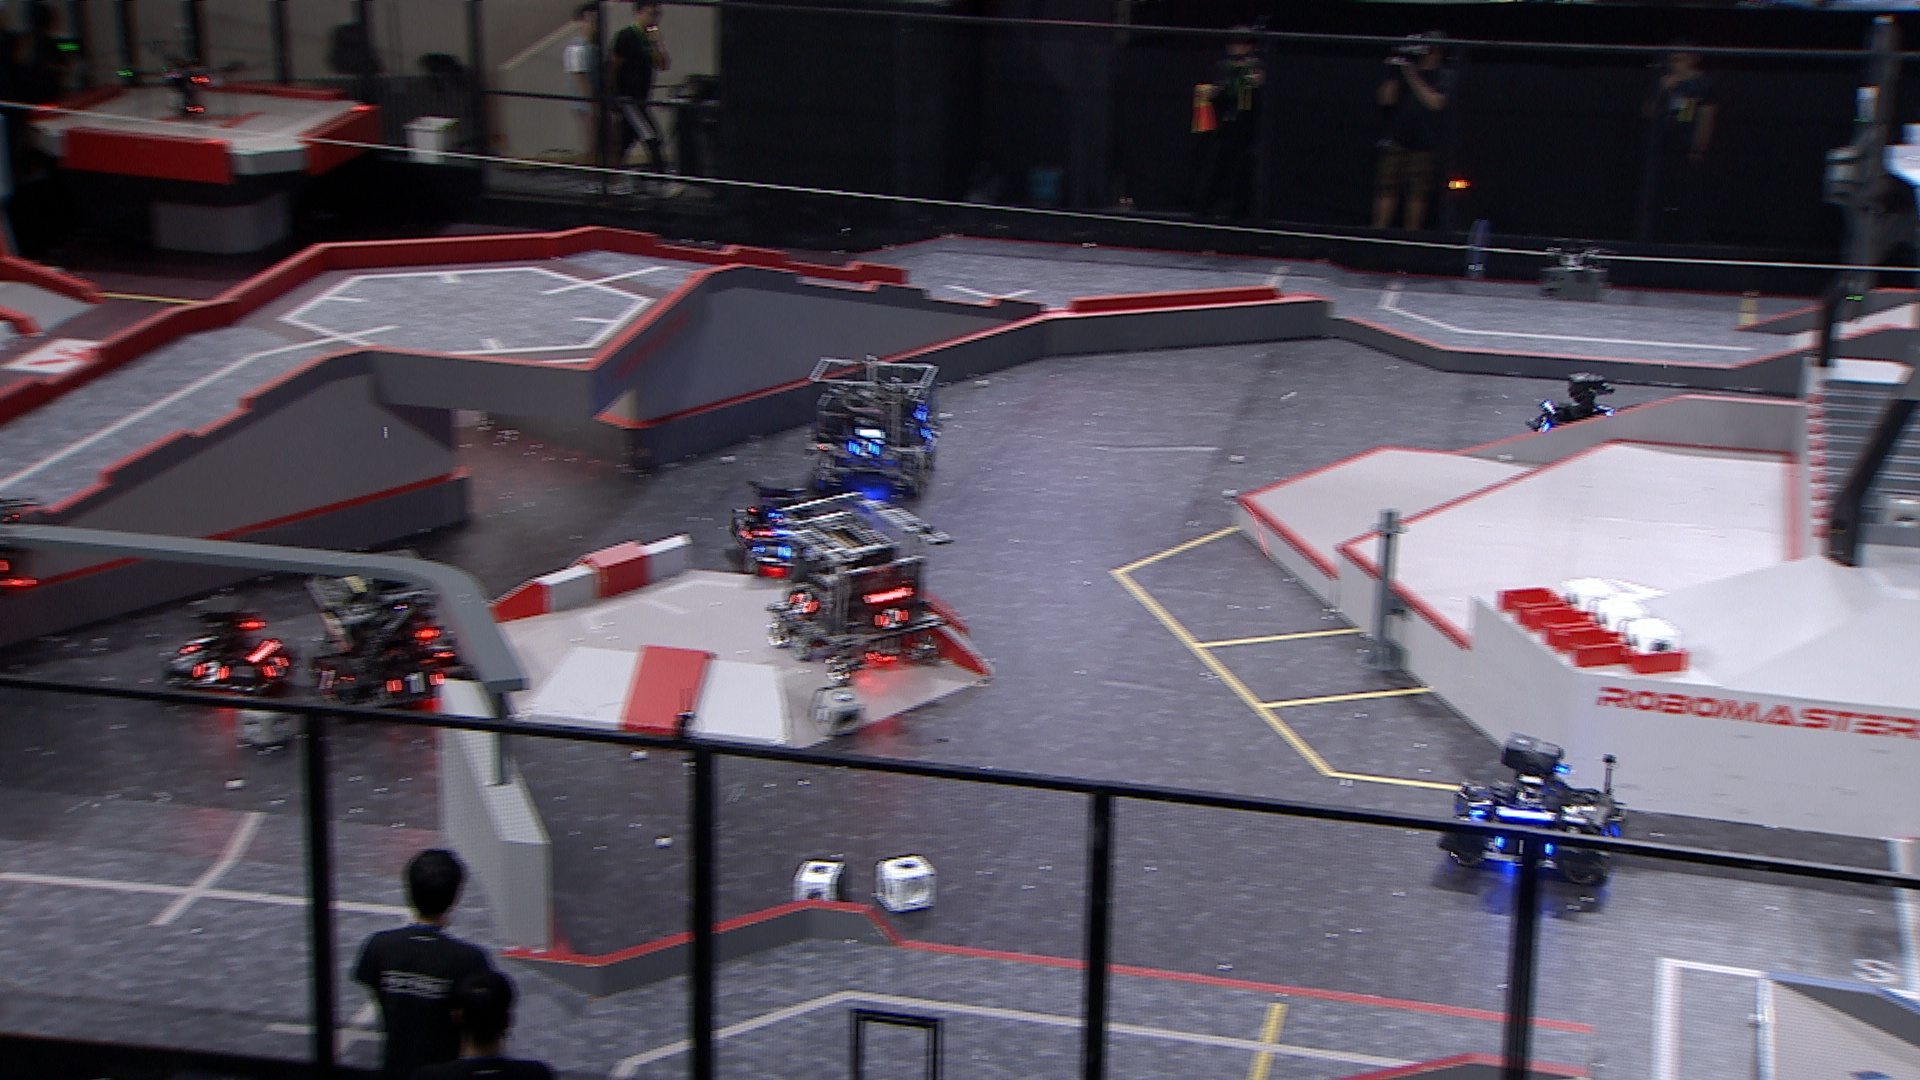armor: (1494, 833, 1553, 856), (386, 673, 444, 695), (190, 659, 233, 688), (787, 591, 820, 617), (752, 542, 793, 562), (847, 438, 882, 460), (311, 669, 343, 694), (876, 608, 909, 632), (1466, 789, 1493, 818), (262, 655, 290, 678), (427, 638, 455, 659), (181, 636, 208, 654), (1536, 415, 1552, 433)
car: (764, 491, 953, 680), (295, 546, 483, 713), (1437, 732, 1627, 887), (803, 353, 944, 495), (160, 593, 301, 708), (1523, 371, 1633, 451), (728, 475, 822, 551), (737, 501, 816, 576)
